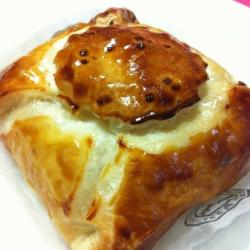apple_pie: (2, 19, 246, 238)
